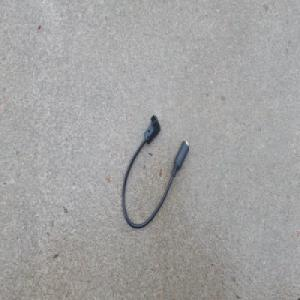Wire: (121, 112, 190, 230)
